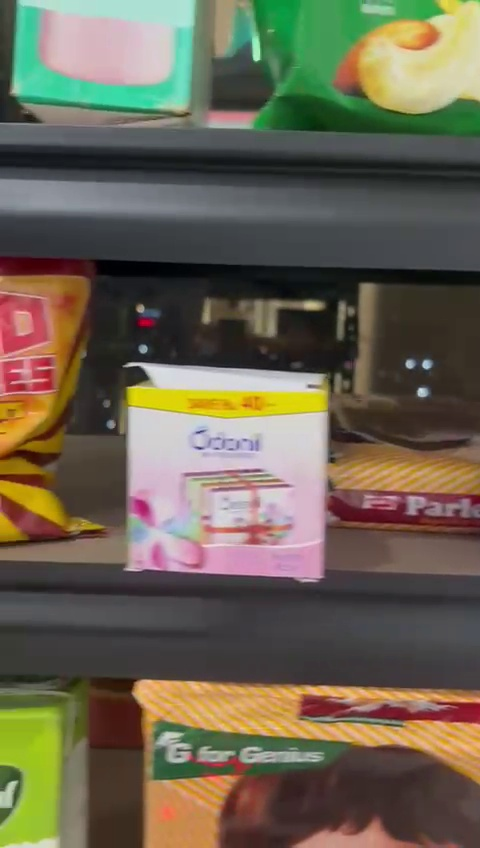Odonil: (119, 362, 328, 580)
